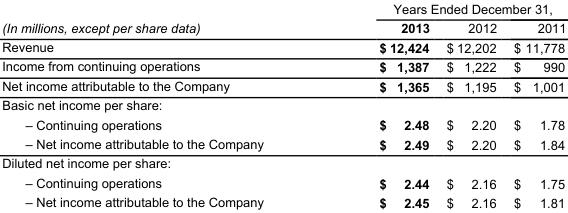table: (1, 1, 565, 209)
table column: (1, 1, 320, 209), (320, 1, 437, 209), (437, 1, 504, 209), (504, 1, 565, 209)
table column header: (1, 1, 565, 37)
table projected row header: (1, 95, 565, 114), (1, 153, 565, 172)
table row: (1, 56, 565, 76), (1, 114, 565, 134), (1, 172, 565, 192), (1, 18, 565, 37), (1, 37, 565, 56), (1, 76, 565, 95), (1, 95, 565, 114), (1, 134, 565, 153), (1, 153, 565, 172), (1, 1, 565, 18), (1, 192, 565, 209)
table spanning cell: (1, 1, 320, 37), (320, 1, 565, 18)
